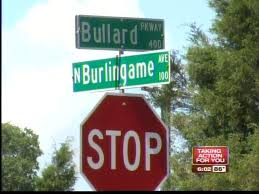stop_sign: (79, 92, 170, 189)
